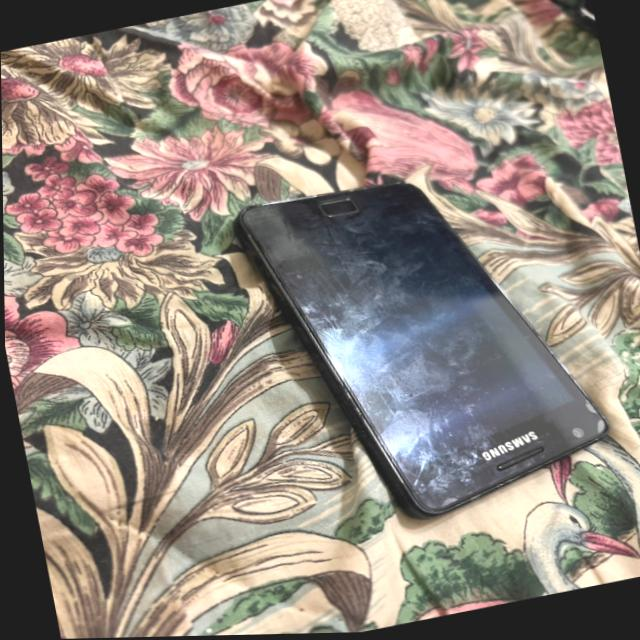Smartphone: (234, 184, 608, 520)
